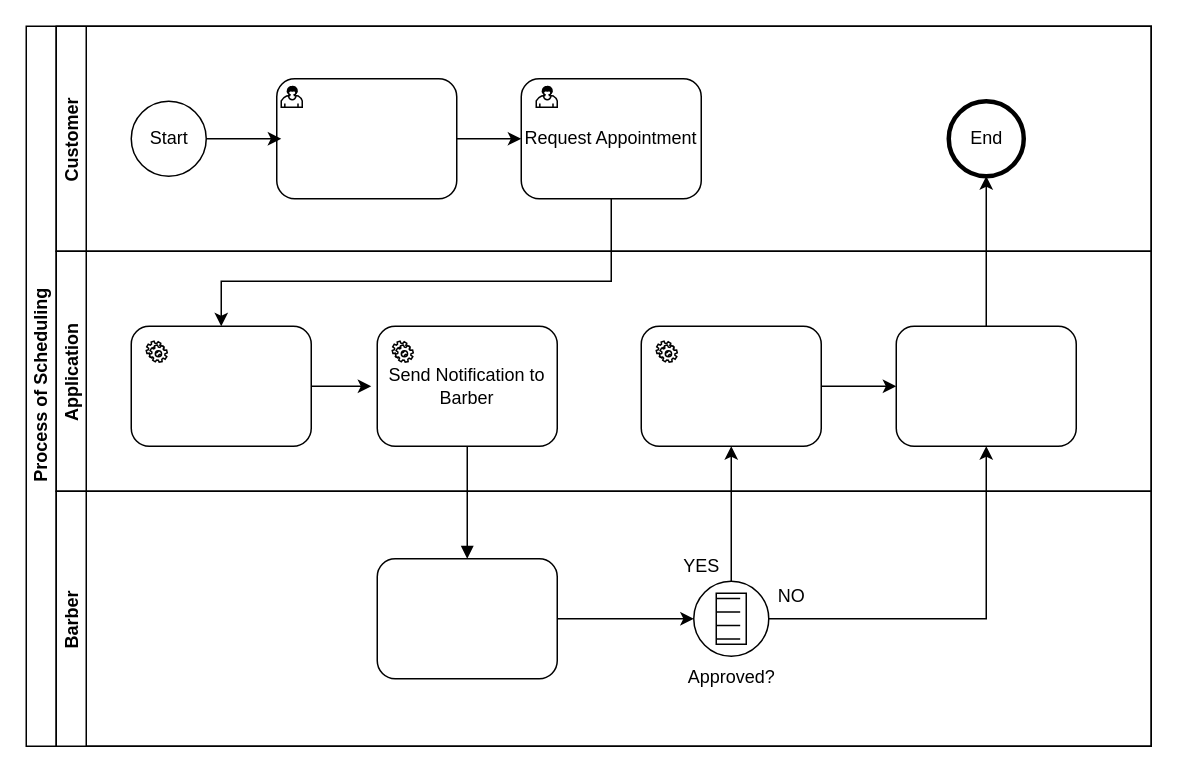
Image size: 1178x773. Some labels were removed from this diagram. The shapes that lost their labels are listed below. From the top down, each one's box as (x1, y1, x2, y2) in pixels, then its label:
(275, 77, 457, 199): Receive Barber available days
(130, 325, 311, 446): Analyze Barber Schedule
(640, 325, 821, 446): Reorganize Barber Schedule
(895, 325, 1076, 446): Send Notification to Customer
(376, 557, 557, 679): Confirm Appointment
